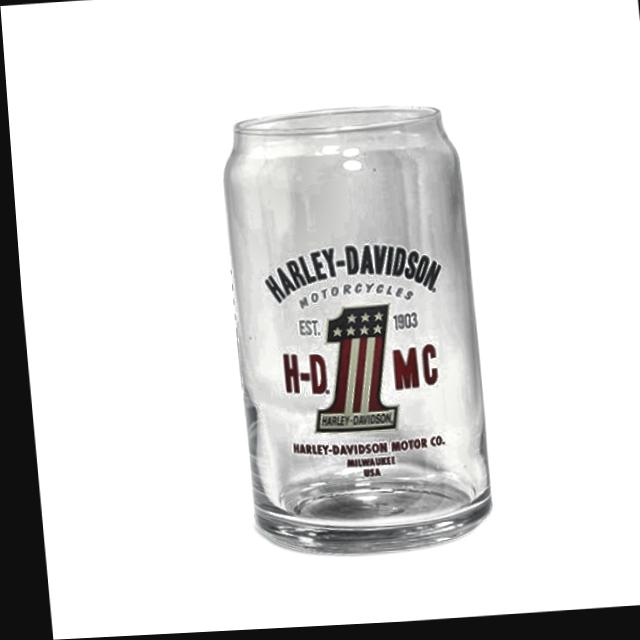Cans: (186, 84, 520, 577)
